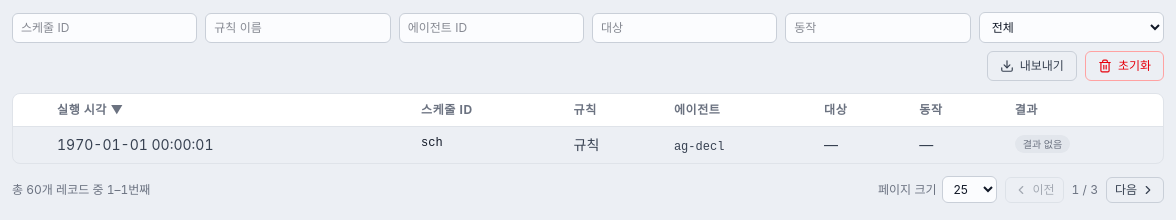
Test case: 페이지네이션(limit/offset 배선) › 다음 페이지 클릭 시 offset 이 페이지 크기만큼 증가한다
Click the button with test id "log-next-page" at (1135, 190), box [1106,176,1164,202]
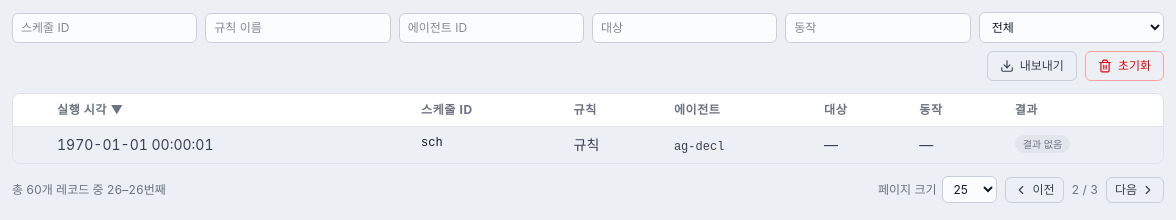
Now the text with test id "log-page-indicator" reads "2 / 3", box [1072,182,1098,198]
